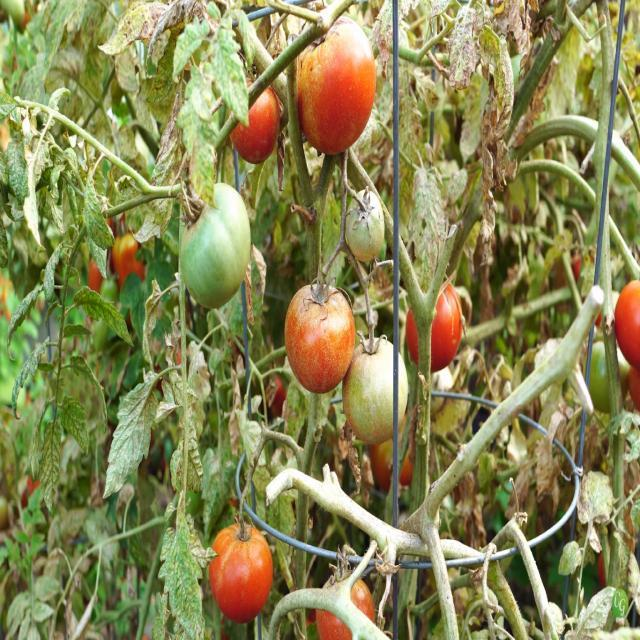Tomato spider mites leaf: (132, 95, 182, 248), (100, 379, 158, 504), (158, 510, 206, 640), (175, 94, 219, 214), (409, 167, 444, 296), (480, 22, 516, 144), (210, 26, 252, 130), (94, 0, 168, 58), (73, 284, 135, 349), (12, 334, 50, 421), (446, 2, 481, 94), (69, 354, 107, 434), (84, 163, 118, 252), (171, 13, 210, 86), (7, 286, 43, 362), (576, 465, 614, 527), (40, 419, 62, 516), (60, 392, 90, 458), (30, 397, 50, 482), (582, 583, 616, 630), (6, 136, 28, 207), (42, 238, 64, 304), (558, 538, 583, 578)
